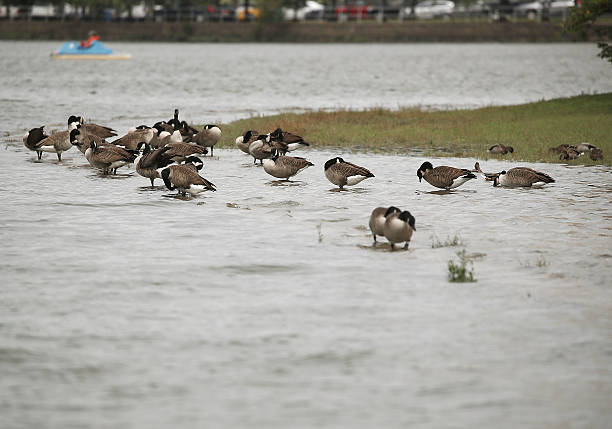goose: (132, 139, 195, 187), (33, 113, 80, 167), (414, 160, 478, 197), (161, 164, 218, 205), (86, 141, 135, 182), (260, 148, 317, 183), (322, 156, 377, 191), (251, 131, 307, 165), (484, 166, 558, 190), (365, 205, 400, 246), (384, 210, 415, 252), (190, 121, 224, 156), (157, 107, 184, 148), (67, 129, 107, 156), (553, 141, 602, 163), (113, 123, 154, 149), (234, 128, 256, 160), (484, 143, 515, 158)
